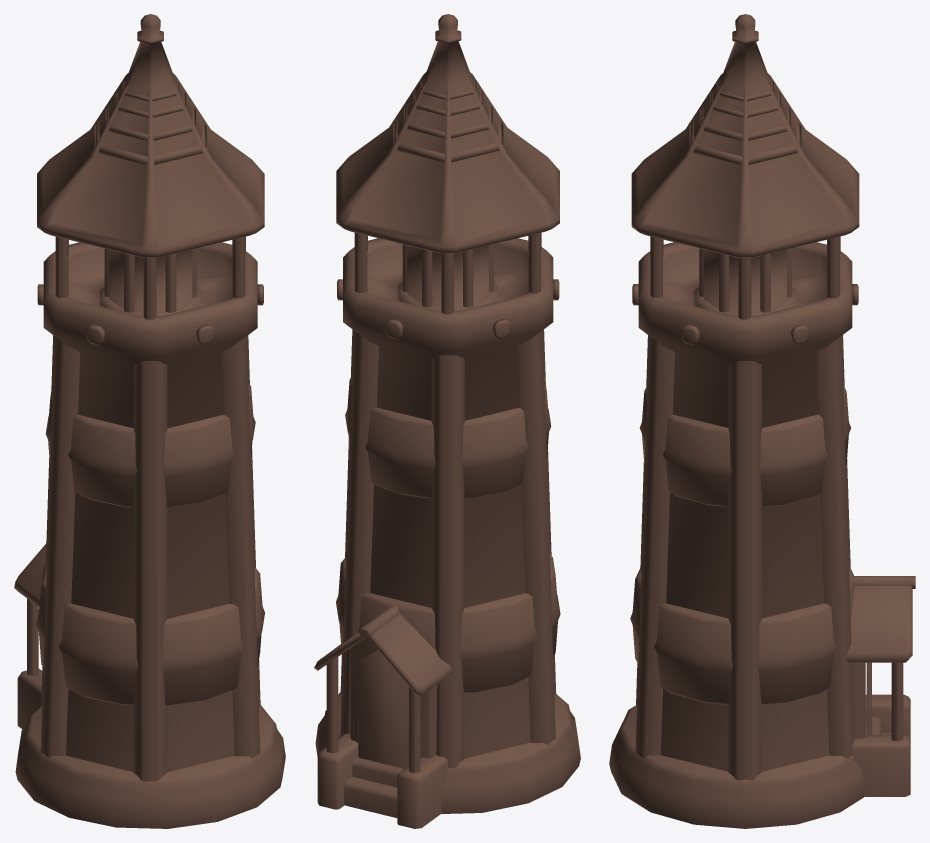
File: Lhouse_gbread.fbx
3 views of the same model, side by side, from view 1: azimuth 30°, elevation 25°; view 2: azimuth 150°, elevation 25°; view 3: azimuth 270°, elevation 25° (orthographic).
Visible parts, largest first — view 1: lighthouse_gbread; view 2: lighthouse_gbread; view 3: lighthouse_gbread.
Boxes of the visible parts, x1,y1,x2,y2 form: lighthouse_gbread: (14,14,285,828); lighthouse_gbread: (314,14,580,828); lighthouse_gbread: (609,14,915,828).
Size of the model in its own units: 1654 by 5078 by 1861.
